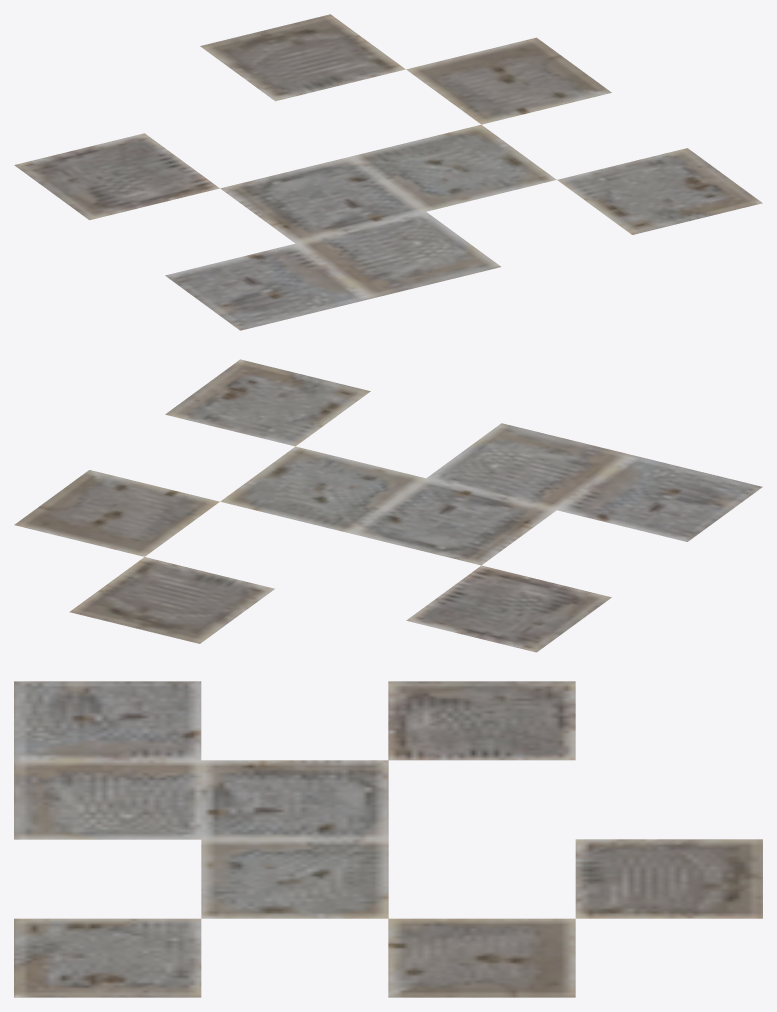
Rendered from PeeledTiles.002.fbx.
3 renders of one model, top to bottom at view 1: azimuth 30°, elevation 25°; view 2: azimuth 150°, elevation 25°; view 3: azimuth 270°, elevation 25°, orthographic. The views are drawn at different scales.
Parts seen in each view (by area): view 1: Plane.001; view 2: Plane.001; view 3: Plane.001.
Boxes of the visible parts, box(x1,y1,x2,y2) form: Plane.001: box(14, 14, 762, 330); Plane.001: box(14, 359, 762, 652); Plane.001: box(14, 681, 762, 997).
Bounding box in the file's own units: 200 × 0 × 200.
